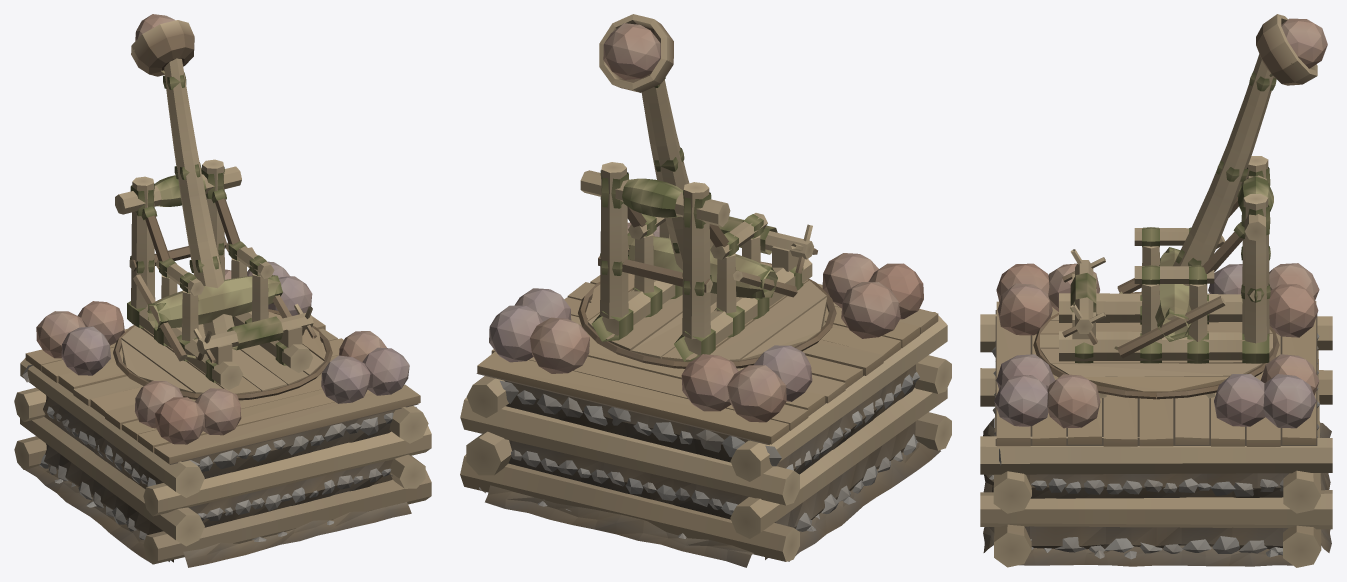
Rendered from catapult_a.glb.
3 renders of one model, left to right at view 1: azimuth 30°, elevation 25°; view 2: azimuth 150°, elevation 25°; view 3: azimuth 270°, elevation 25°, orthographic. The views are drawn at different scales.
Parts seen in each view (by area): view 1: Base, Turn, Arm, Store3, Store2, Pile; view 2: Base, Turn, Store3, Store2, Arm, Stone; view 3: Base, Turn, Store3, Arm, Pile, Store2, Stone.
Part boxes in pixels (x1,y1,x2,y2): Base: (14,316,431,567); Turn: (113,159,332,400); Arm: (131,20,234,336); Store3: (36,261,312,375); Store2: (135,381,241,444); Pile: (321,331,409,403); Base: (460,275,951,567); Turn: (578,162,836,368); Store3: (489,288,812,422); Store2: (822,253,923,338); Arm: (599,14,716,305); Stone: (603,23,660,79); Base: (980,301,1332,567); Turn: (1033,156,1279,399); Store3: (1208,263,1319,428); Arm: (1167,14,1317,320); Pile: (994,354,1100,428); Store2: (996,263,1099,335); Stone: (1281,18,1327,68).
Size of the model in its own units: 1.95 by 2.9 by 1.95.
